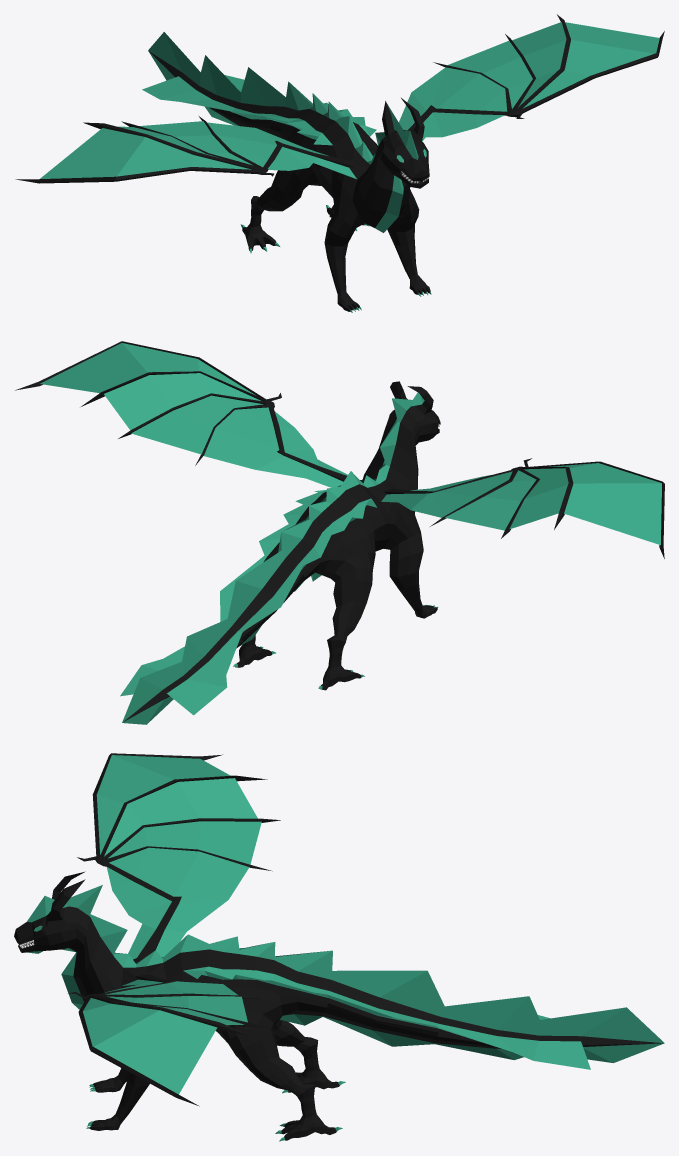
Rendered from dragon.glb.
3 renders of one model, top to bottom at view 1: azimuth 30°, elevation 25°; view 2: azimuth 150°, elevation 25°; view 3: azimuth 270°, elevation 25°, orthographic. The views are drawn at different scales.
Visible parts, largest first — view 1: Cube; view 2: Cube; view 3: Cube.
Part boxes in pixels (bbox=[...]): Cube: bbox=[15, 14, 664, 312]; Cube: bbox=[15, 341, 664, 724]; Cube: bbox=[14, 753, 664, 1141].
Size of the model in its own units: 945 by 292 by 738.
